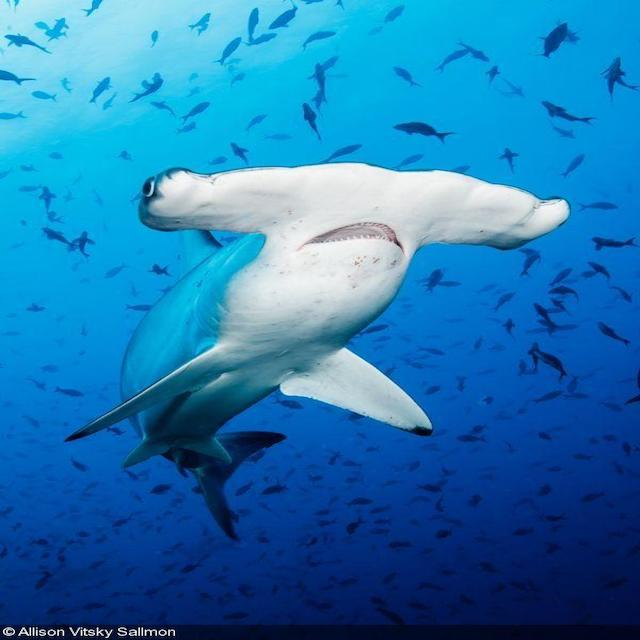hammerhead: (100, 133, 566, 372)
